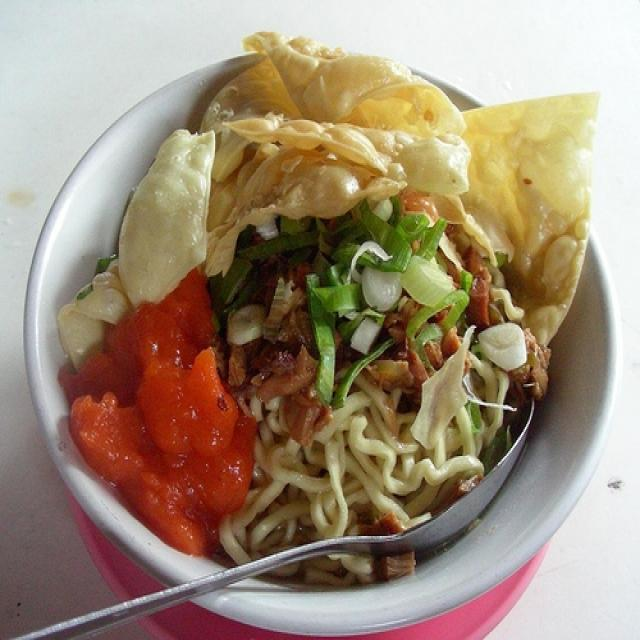面条主食: (54, 42, 584, 600)
